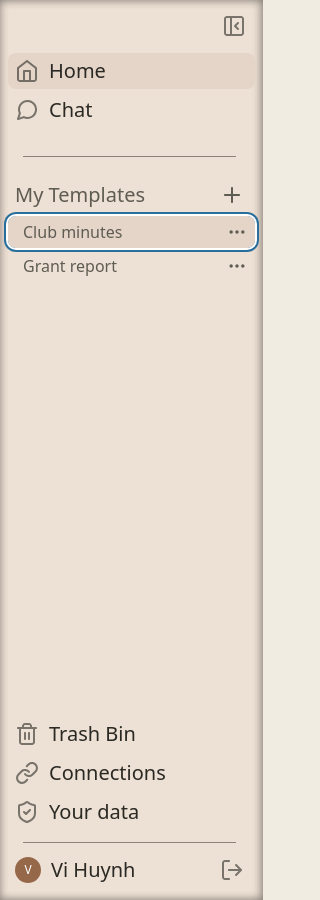
Test: AppSidebar › takes a template that is already in the Trash Bin off the list, says so, and moves focus to the next row
Click the button with id "template-start-1".
click(132, 232)  # box top-left (8, 216), bottom-right (255, 248)
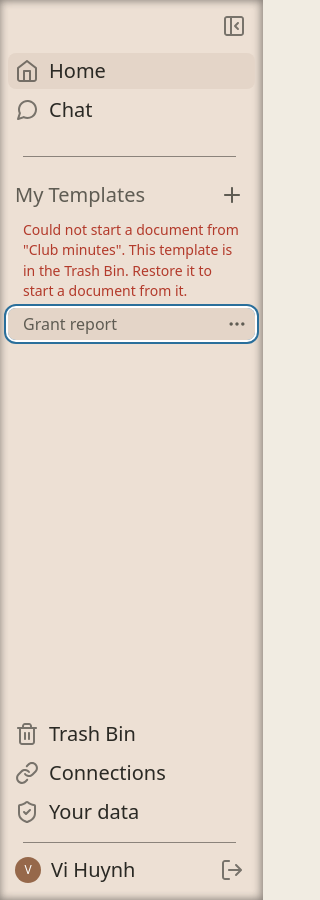
Check: the message shows "Could not start a document from \"Club minutes\". This template is in the Trash Bin. Restore it to start a document from it.", box top-left (23, 220), bottom-right (239, 300)
Check: the button with id "template-start-1" is gone
